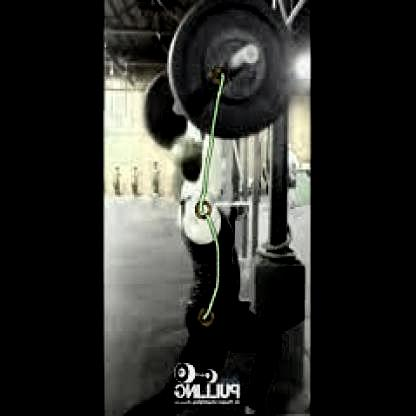Barbell: (238, 45, 258, 67)
